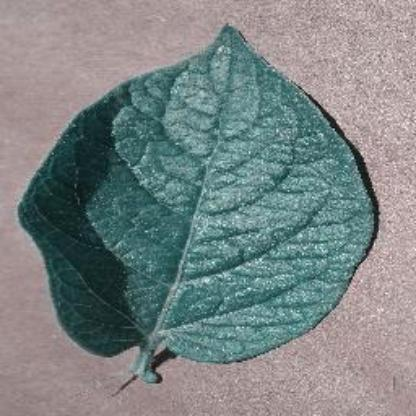Healthy-plant: (6, 19, 388, 380)
